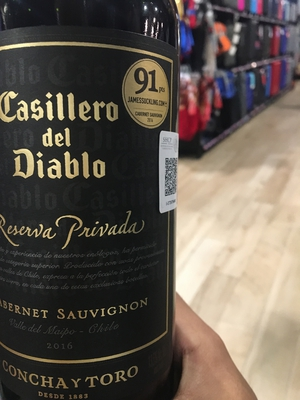casillero del diablo reserva privada cabernet sauvignon: (1, 6, 185, 397)
